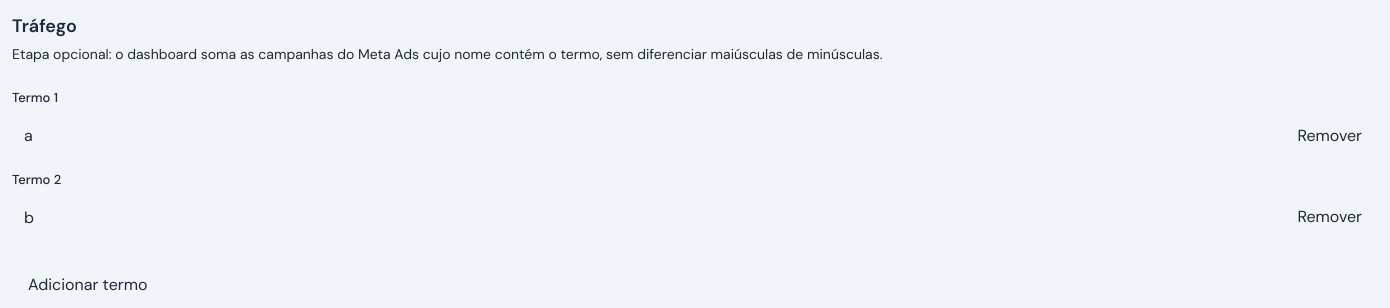
EtapaTrafego › remove a linha escolhida e nunca deixa menos de um campo
Click the button with aria-label "Remover termo 1".
click(1330, 136)  # box [1282, 114, 1378, 158]
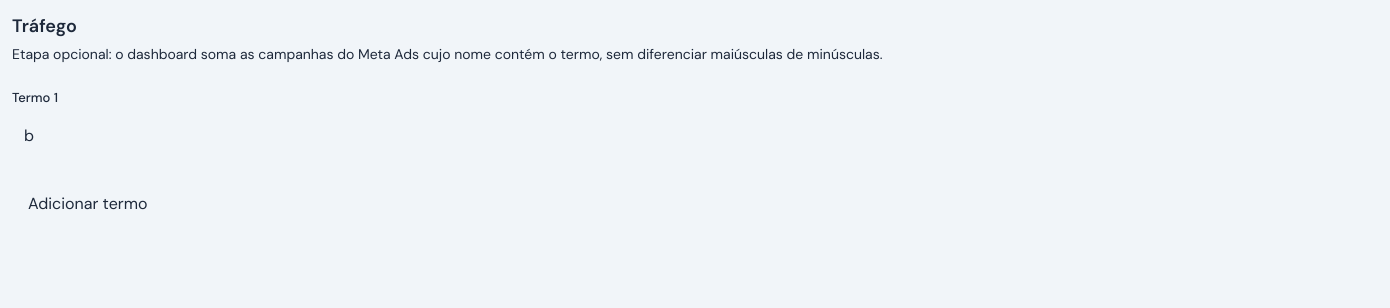
expect the number of fields is 1: met, box [12, 114, 1378, 158]
expect the list "Remover Termo" is gone: met
